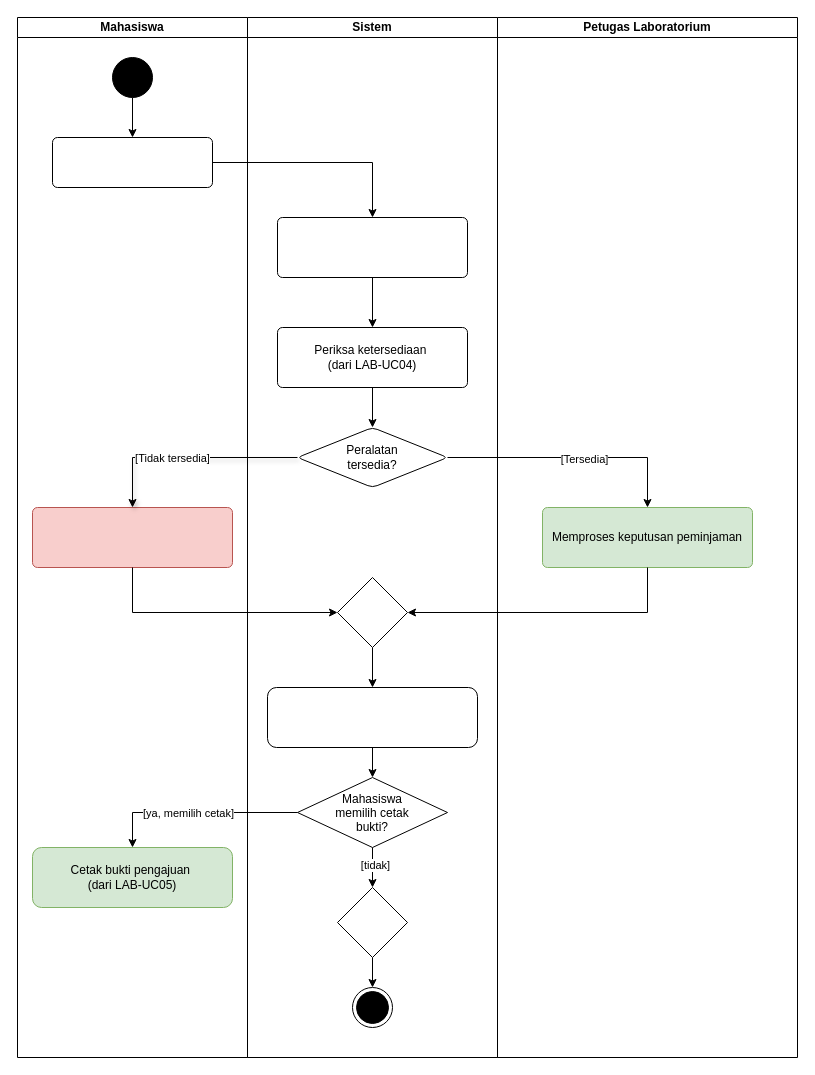
Image size: 815x1075. Some labels were removed from this diagram. The centre of each missing label's shape, as x and y in pixels:
"Mencatat hasil akhir pengajuan" belongs at point (372, 717).
"Menerima pemberitahuan pengajuan tidak terpenuhi" belongs at point (132, 537).
"Mengisi formulir pengajuan peminjaman" belongs at point (132, 162).
"Menyimpan data pengajuan peminjam" belongs at point (372, 247).
